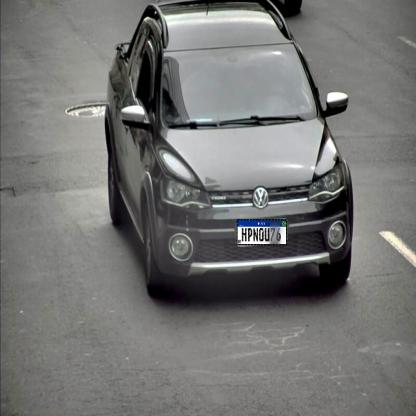PlacaM: (237, 219, 287, 246)
